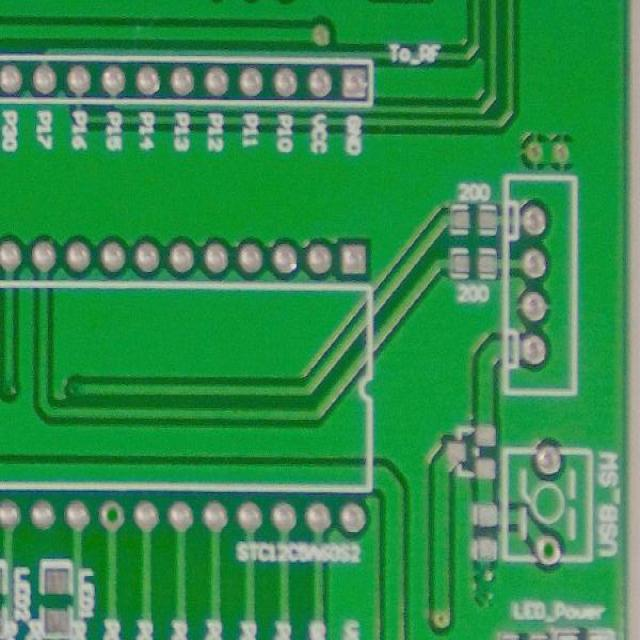missing hole: (532, 530, 566, 570), (96, 500, 128, 535)
